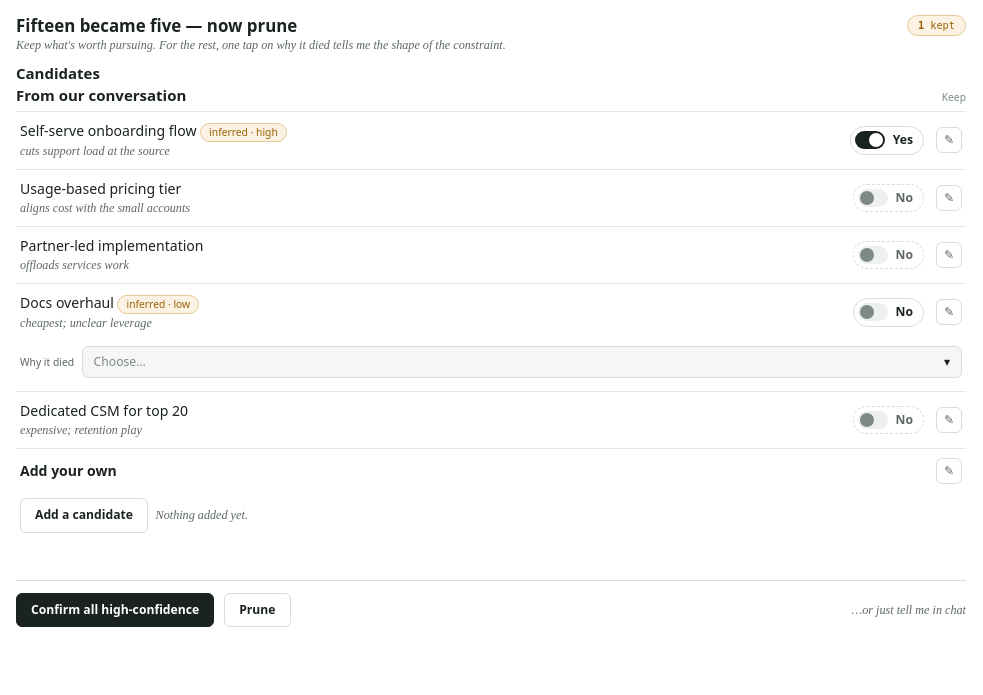
Scenario: boolean toggle and the searchable list (§4.2/§7.3) › renders a switch, and reveals the row's reason when it goes false
Click the switch named "Self-serve onboarding flow — Keep" at (887, 140), box [850,126,924,155]
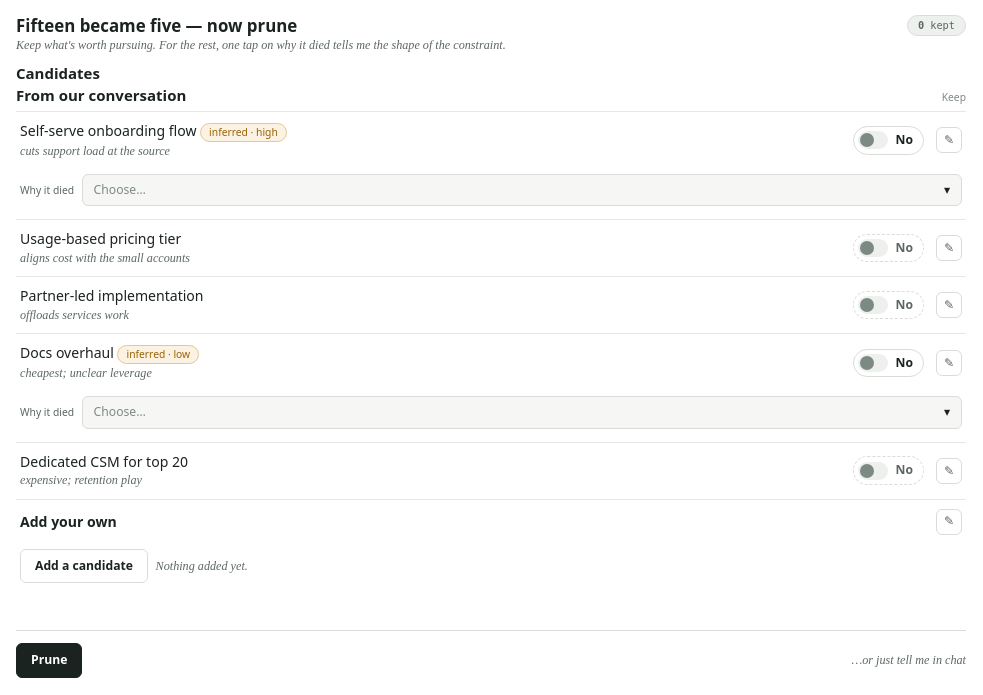
Now the button with aria-label "Self-serve onboarding flow — Why it died" is shown, box [82,174,962,206]
